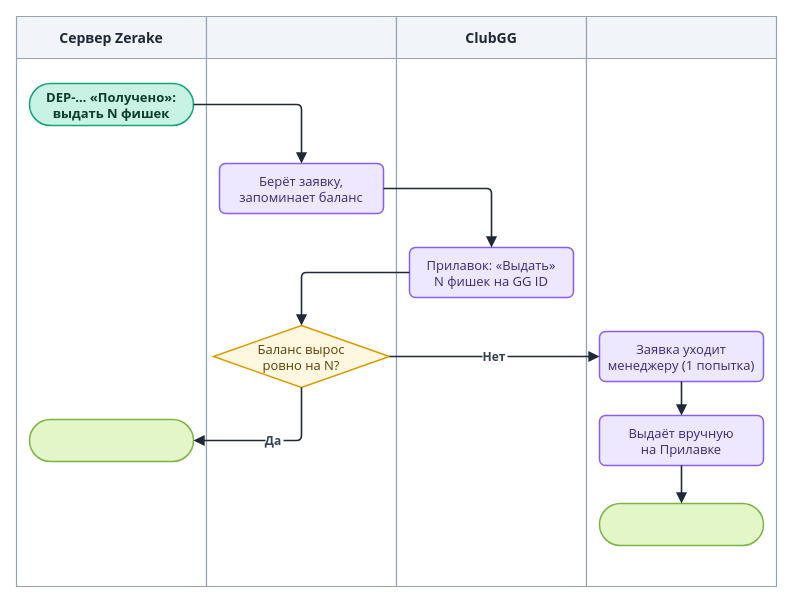
Image size: 793x603. Some labels were removed from this diagram. The shapes that lost their labels are listed below. From the top down, each one's box as (x1, y1, x2, y2) in pixels, then its label:
(205, 15, 397, 587): Агент
(585, 15, 777, 587): Команда
(28, 418, 194, 462): «Фишки отправлены»
(598, 502, 764, 546): «Фишки выданы»
